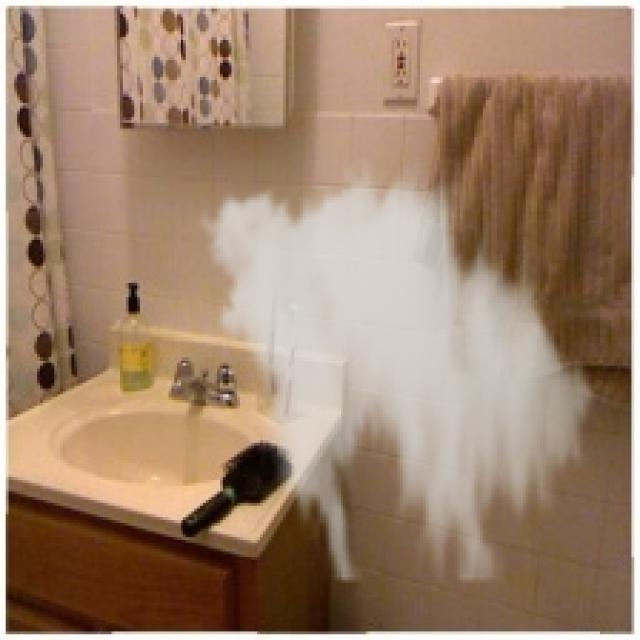Smoke: (188, 157, 606, 583)
